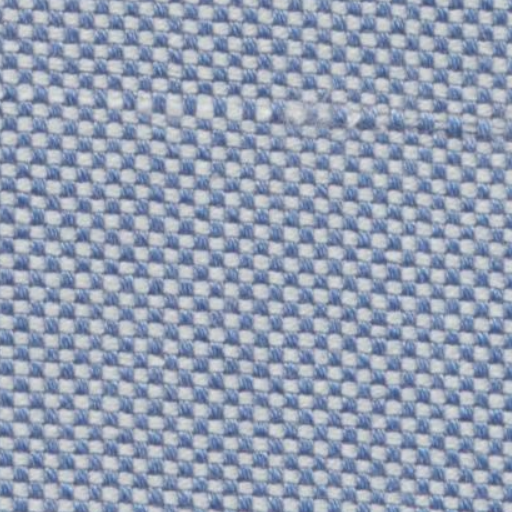DaiSha: (4, 67, 498, 148)
